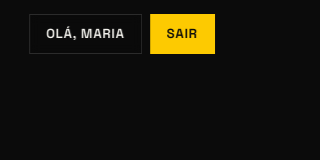
Scenario: Barra de conta na loja › cliente logado vê o primeiro nome e consegue sair
Click the button "Sair".
click(182, 34)  # box [150,14,215,54]
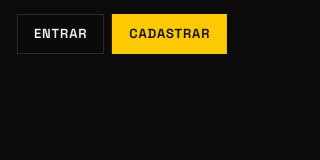
Check: the link "Entrar" is shown, box [17,14,104,54]
